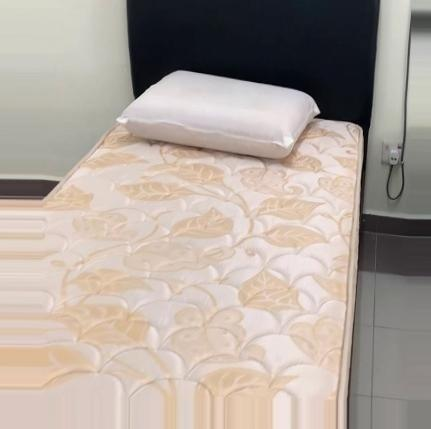bed: (0, 0, 394, 429)
